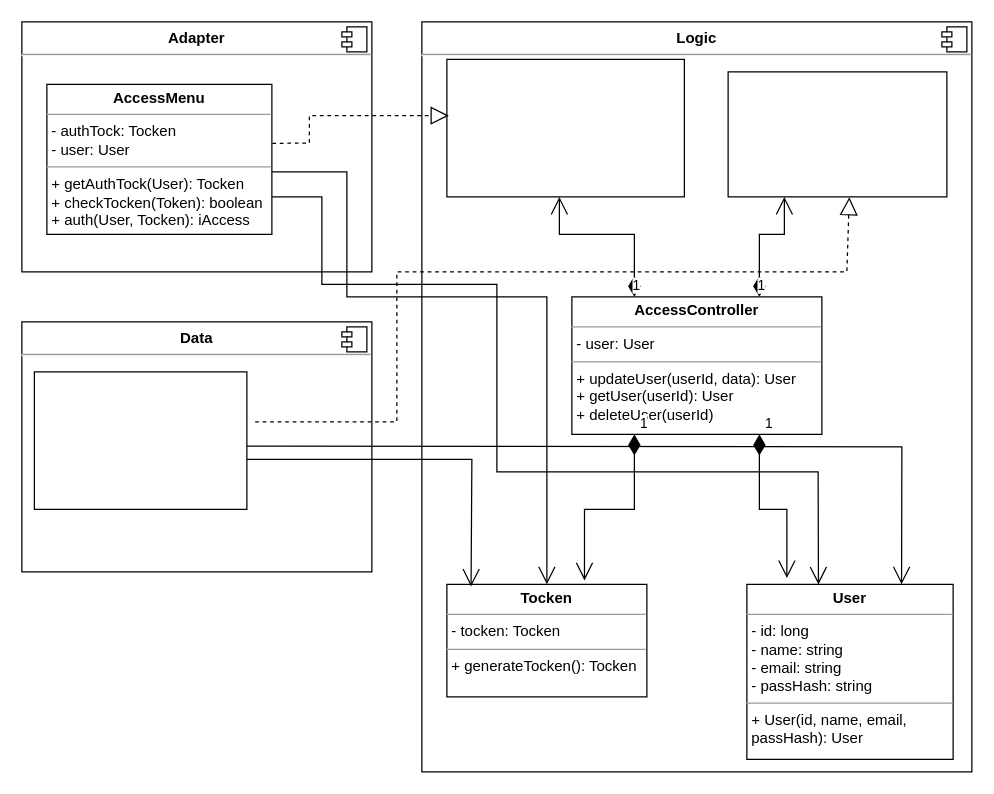
Image size: 994x794. Some labels were removed from this diagram. Here are the shapes that lost their labels. From the top down, the centre of each, then its label:
At (x=565, y=127): "<<Interface>> iAccess + auth(User, Tocken): iAccess".
At (x=837, y=134): "<<Interface>> iRepo + getData(User, Tocken): iRepo".
At (x=140, y=440): "AccessRepo - tocken: Tocken - user: User + getData(User, Tocken): iRepo".
